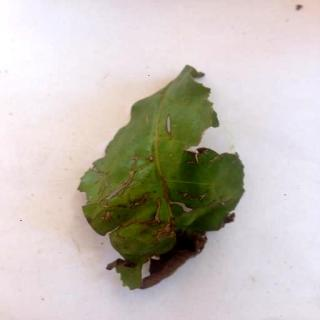Brown Blight: (79, 66, 246, 291)
